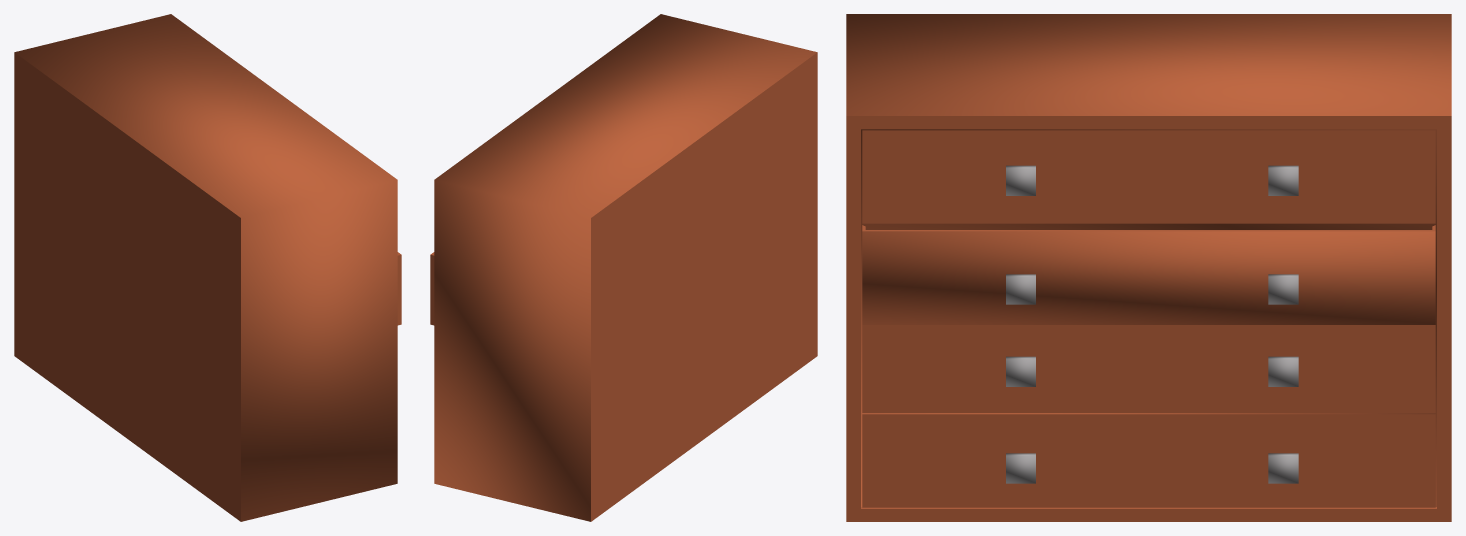
The model's file is wardrobe_medium.obj.
The picture shows the model from 3 angles, left to right: view 1: azimuth 30°, elevation 25°; view 2: azimuth 150°, elevation 25°; view 3: azimuth 270°, elevation 25°; orthographic projection. The views are drawn at different scales.
Visible parts, largest first — view 1: WardrobeMedium_bedroom.030; view 2: WardrobeMedium_bedroom.030; view 3: WardrobeMedium_bedroom.030.
Part boxes in pixels (x1,y1,x2,y2): WardrobeMedium_bedroom.030: (14,14,401,521); WardrobeMedium_bedroom.030: (430,14,817,521); WardrobeMedium_bedroom.030: (846,14,1451,521).
Bounding box in the file's own units: 0.9607 × 1.58 × 2.13.
Materials: 2 (2 with a texture image).
